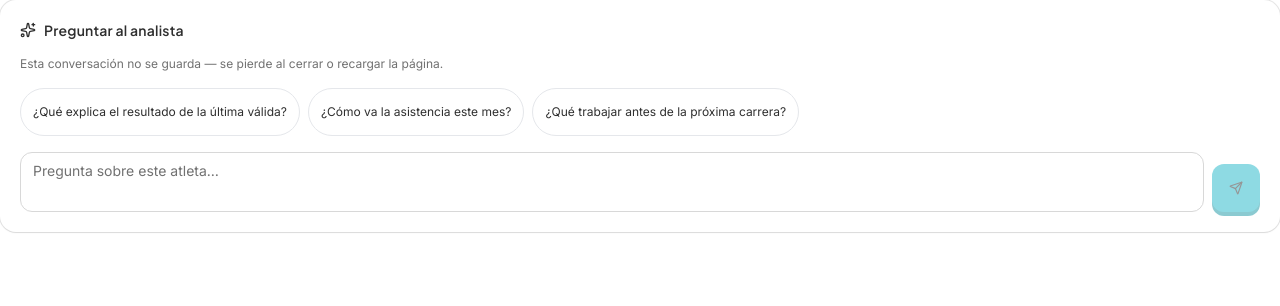
Test: AthleteAnalystChatPanel › envía athlete_id (no race_event_id) al hacer una consulta
This screenshot has width=1280, height=306.
Type "¿Qué explica el resultado de la última válida?" into the text box with test id "athlete-analyst-chat-input" at coordinates (612, 182), box [20,152,1204,212]
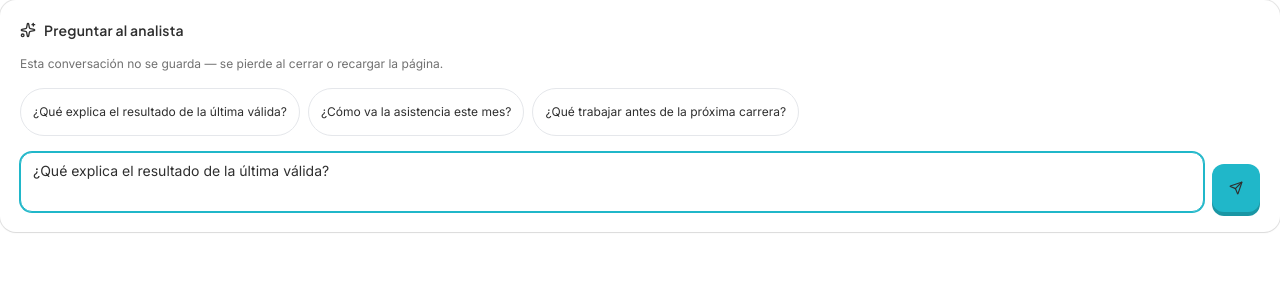
Click the button with test id "athlete-analyst-chat-send" at coordinates (1236, 188), box [1212,164,1260,212]
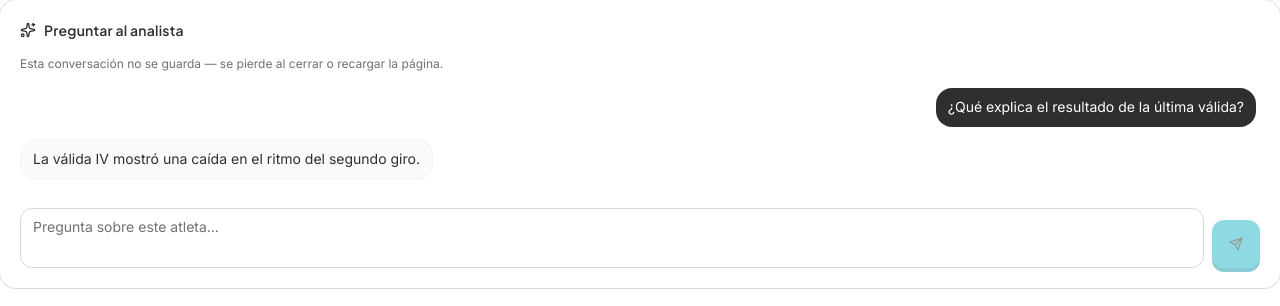
Check: the text "La válida IV mostró una caída en el ritmo del segundo giro." is shown, box [33,148,420,171]
